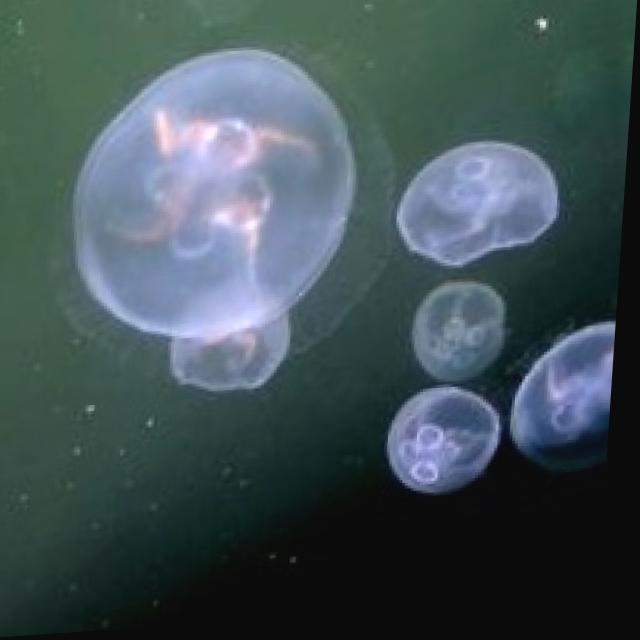Moon-jellyfish: (398, 144, 571, 281), (514, 332, 621, 490), (391, 391, 513, 508), (414, 287, 516, 396), (173, 318, 299, 400)
